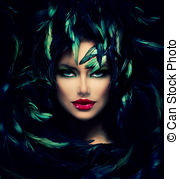face: (52, 18, 109, 123)
